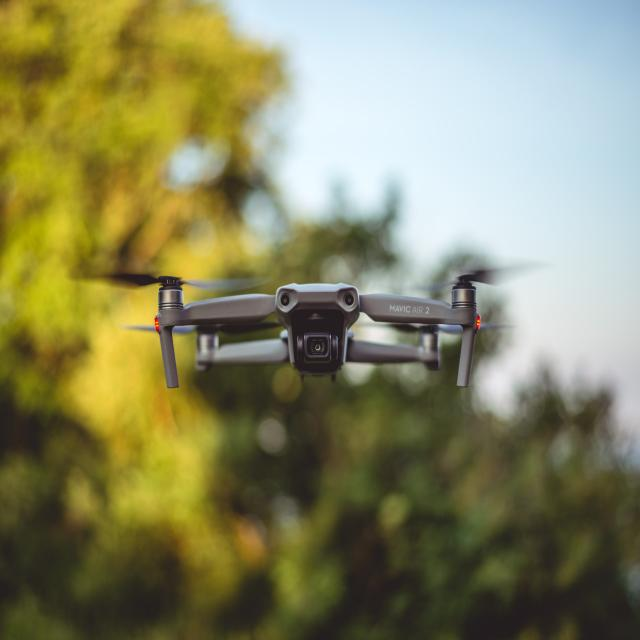drone: (68, 244, 552, 414)
